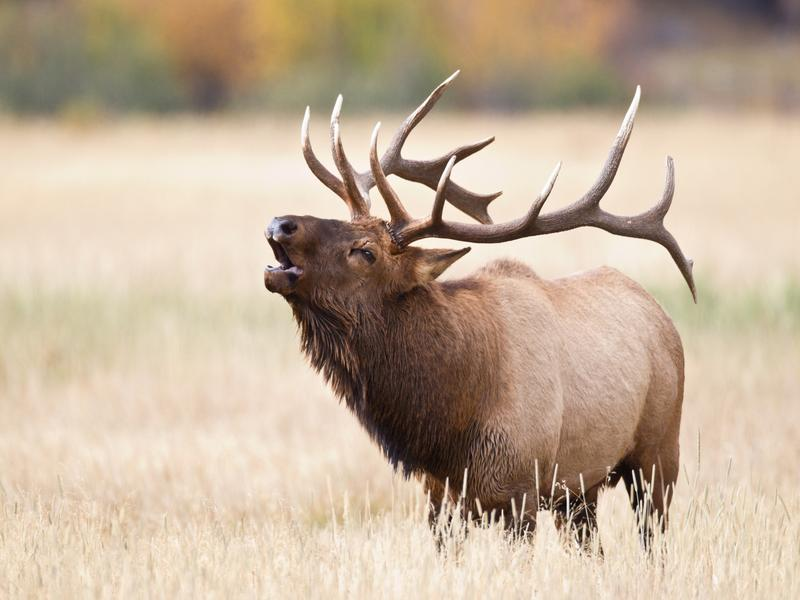elk: (263, 89, 699, 560)
